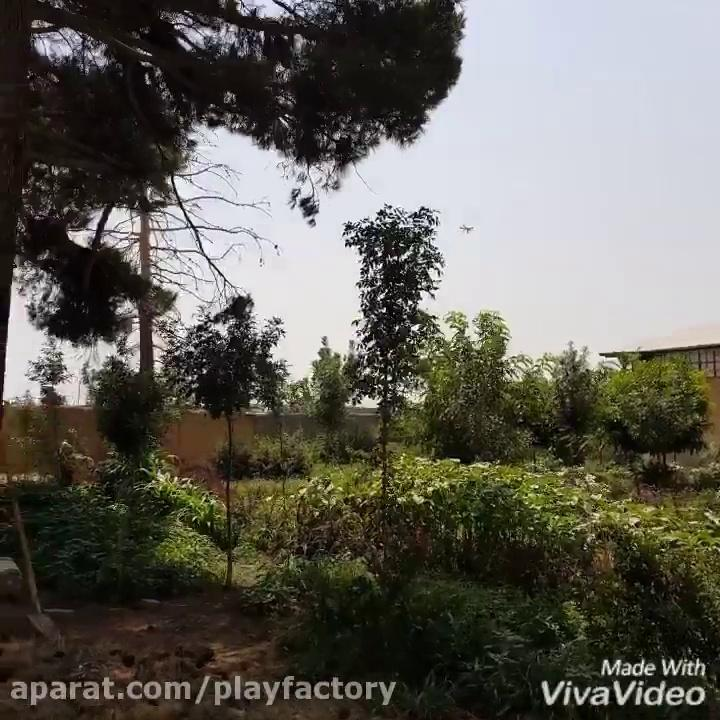drone: (457, 223, 477, 235)
